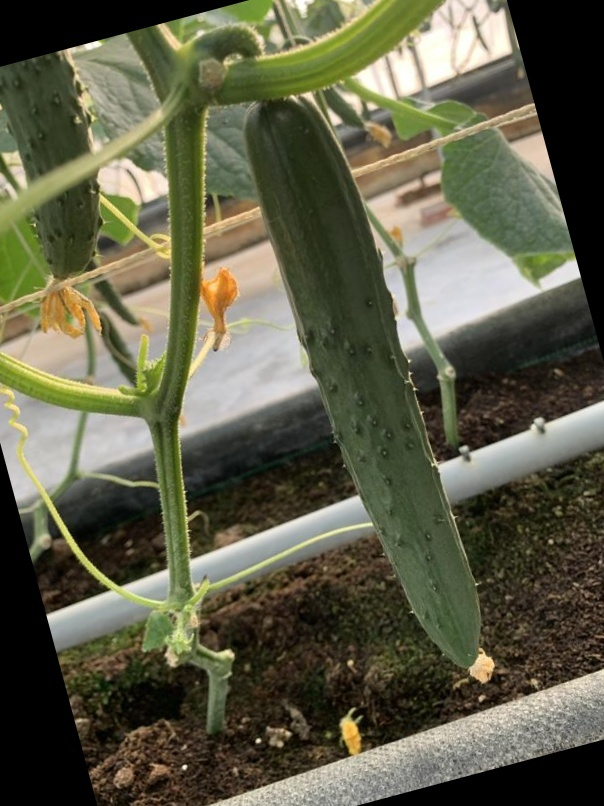mature: (216, 82, 521, 678)
